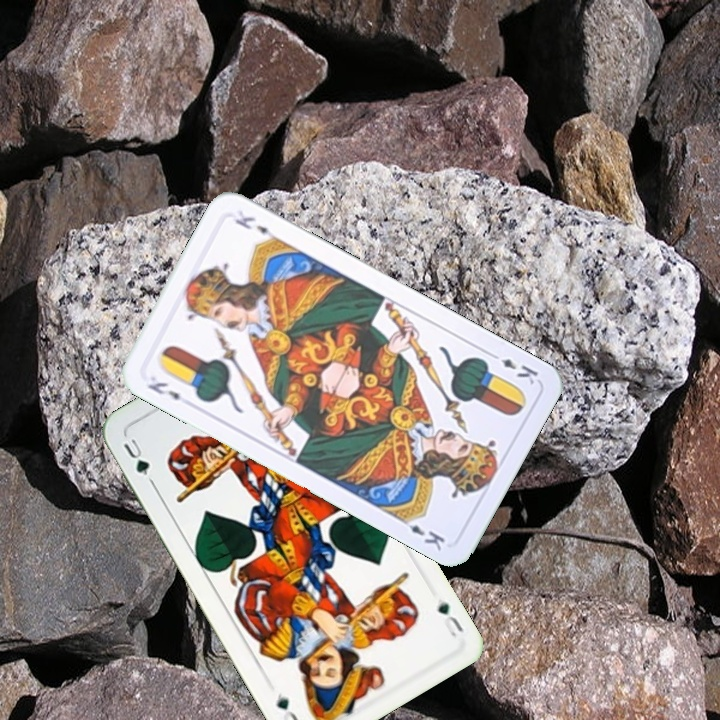EK: (485, 348, 541, 387), (143, 377, 183, 403)
GU: (119, 432, 152, 479), (433, 596, 466, 640)
